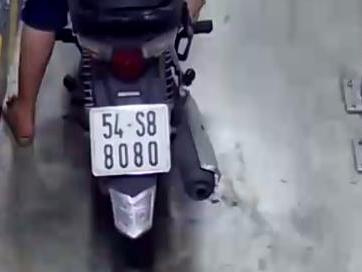num_plate: (90, 102, 172, 175)
